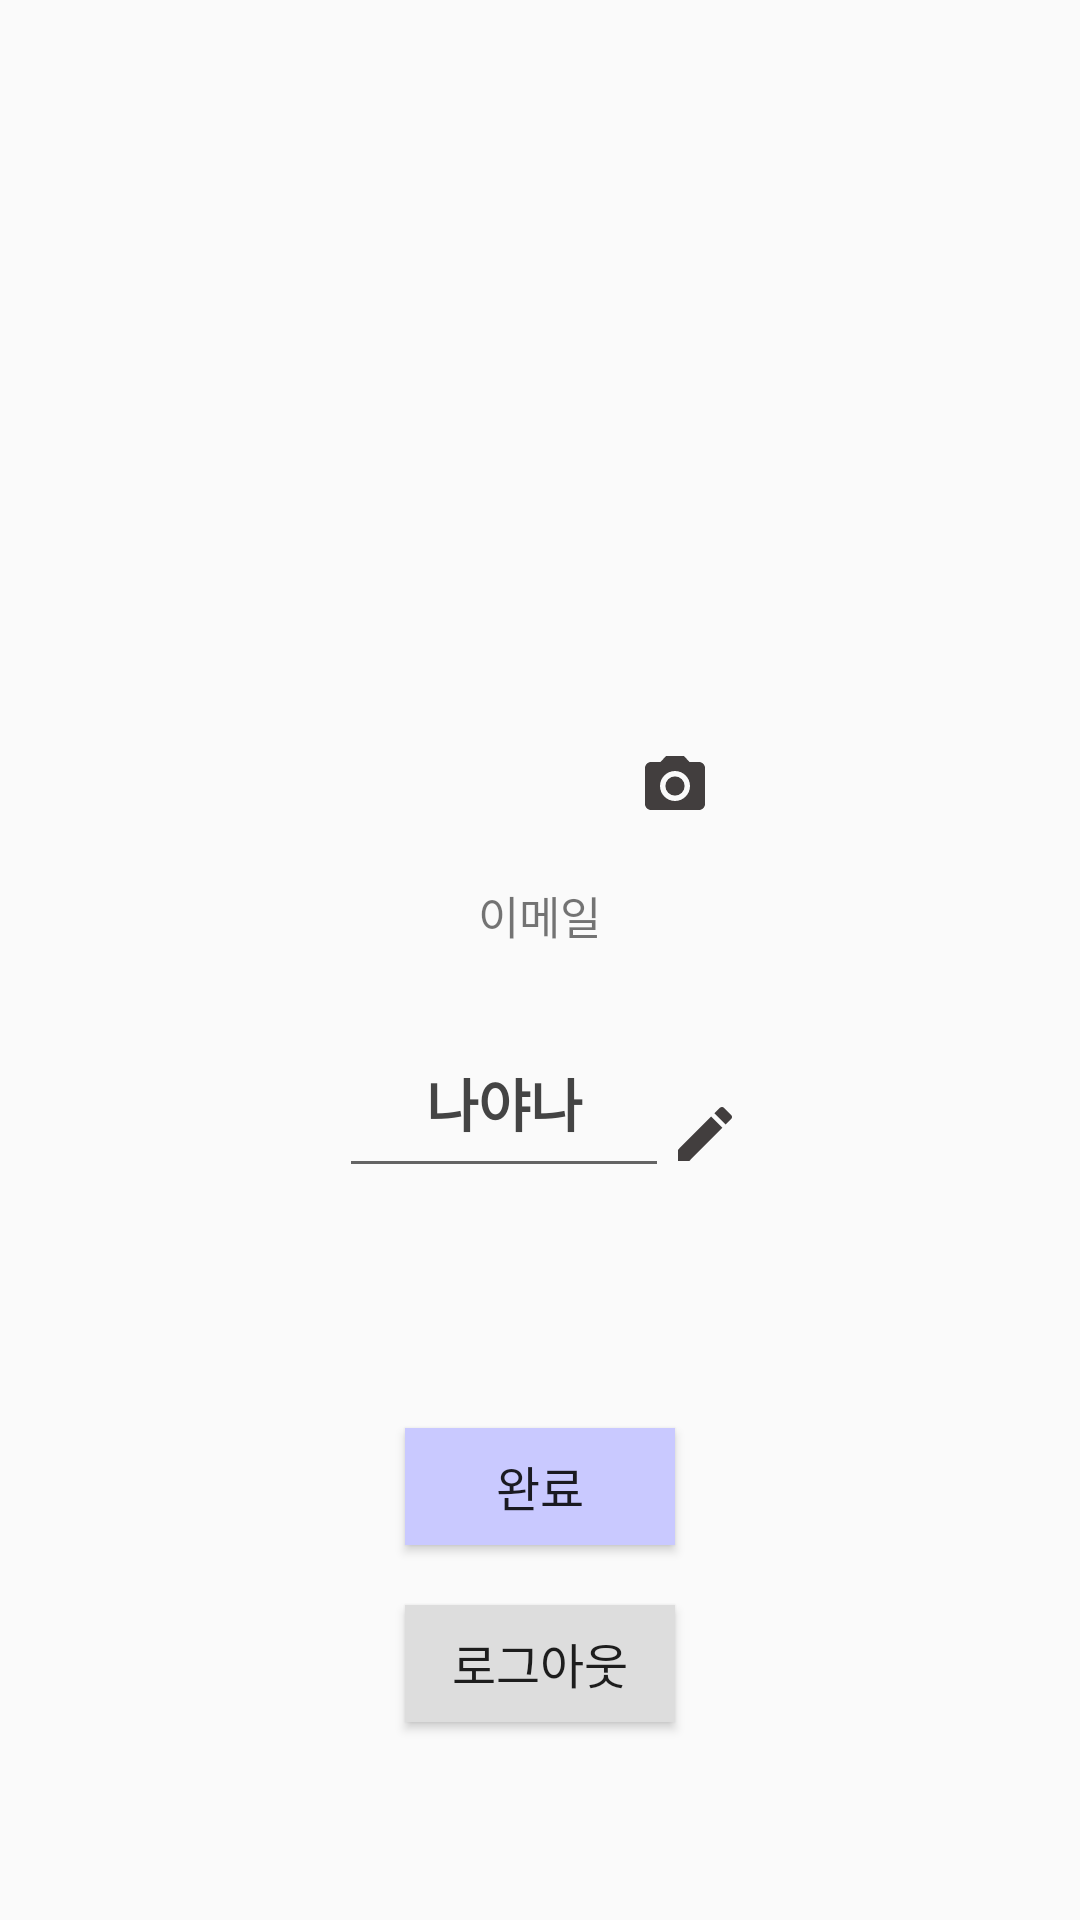

Screen size 1080 x 1920. Icon name, then its center in pixels as [x,y]:
create: [705,1134]
photo camera: [675,783]
